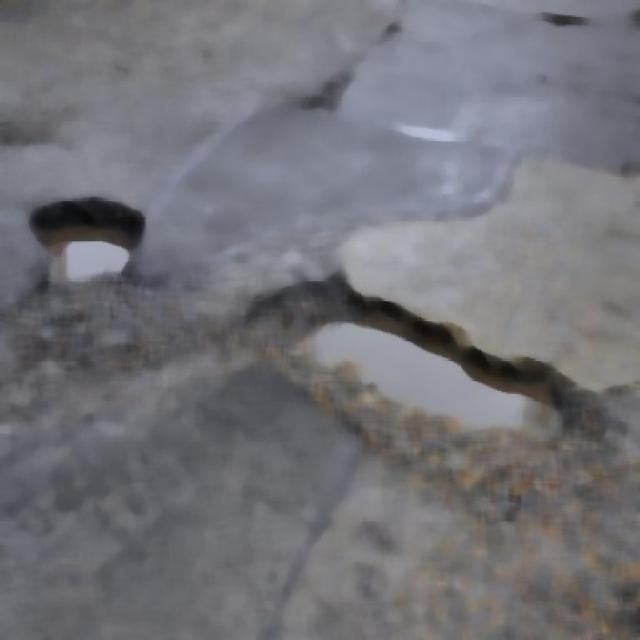Pothole: (307, 290, 561, 439), (35, 200, 132, 286)
